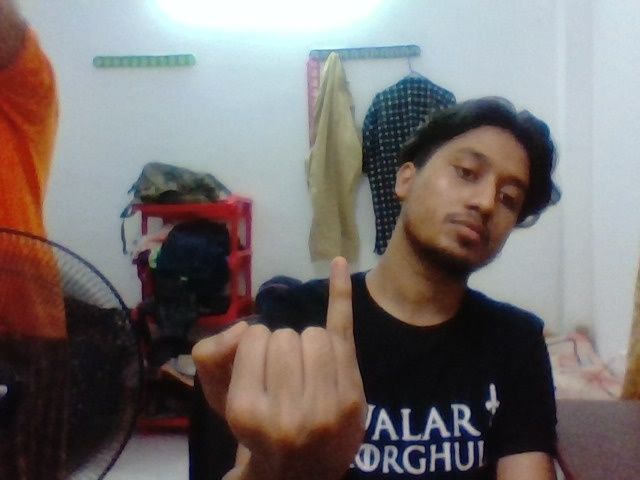I: (205, 234, 372, 445)
